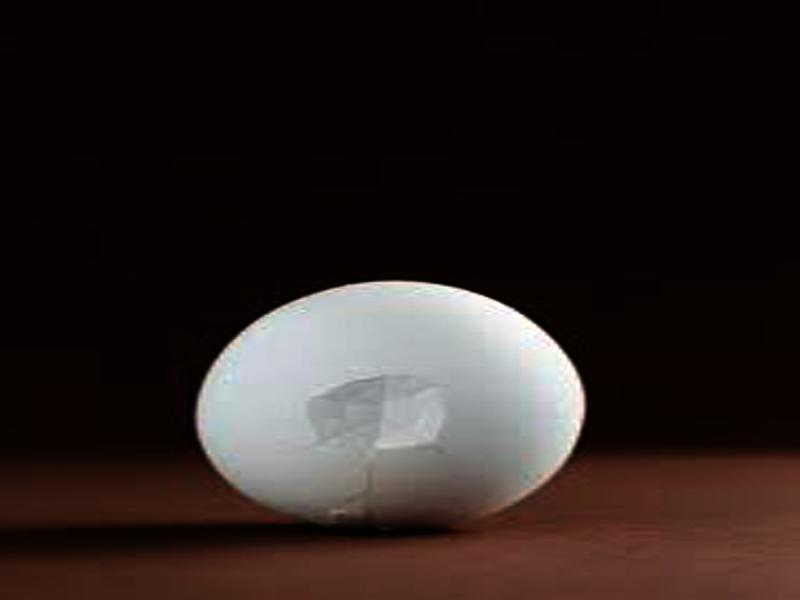Eggs: (200, 279, 585, 532)
